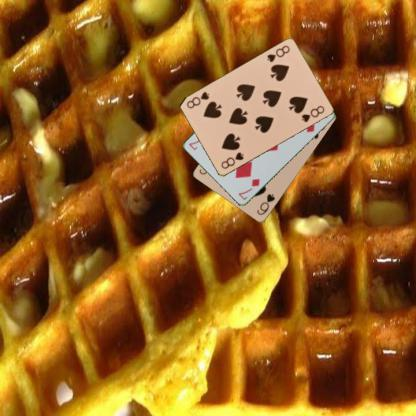6s: (254, 191, 276, 217)
7d: (236, 176, 260, 202)
8s: (218, 150, 245, 171), (264, 42, 291, 63)
